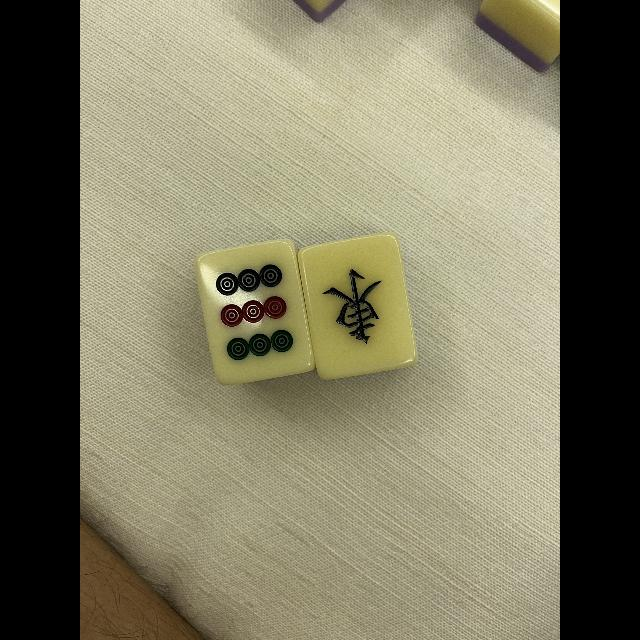d9: (202, 246, 304, 378)
we: (309, 241, 409, 373)
